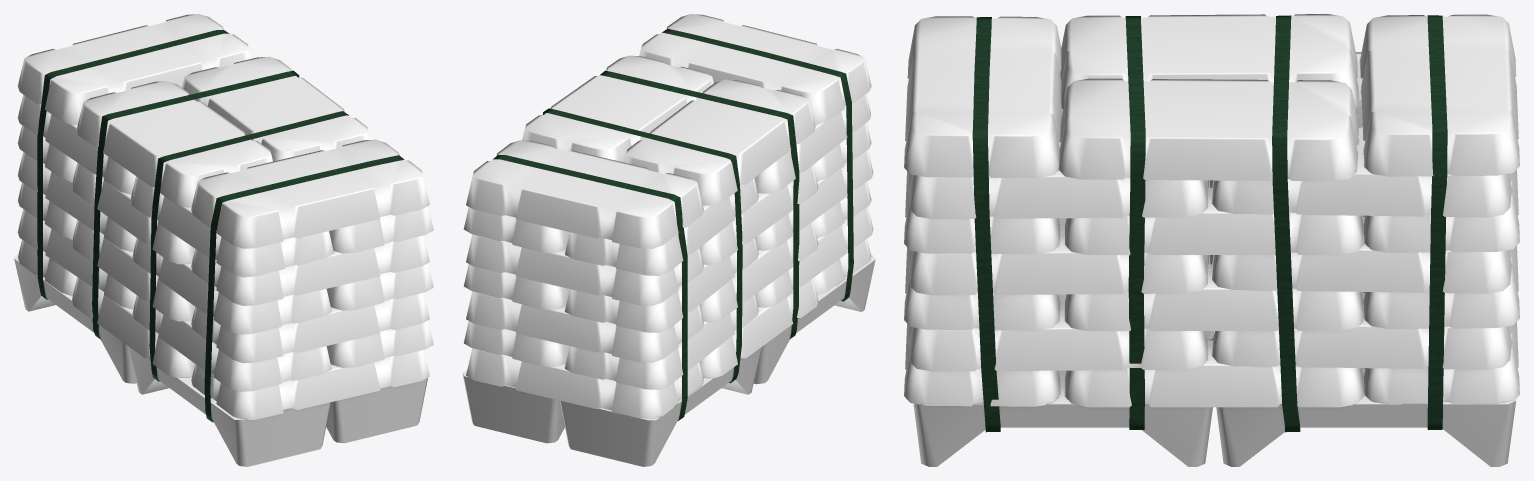
File: zincPallet.fbx
3 renders of one model, left to right at view 1: azimuth 30°, elevation 25°; view 2: azimuth 150°, elevation 25°; view 3: azimuth 270°, elevation 25°, orthographic. The views are drawn at different scales.
Visible parts, largest first — view 1: zincPallet; view 2: zincPallet; view 3: zincPallet.
Boxes of the visible parts, left/top/right/bottom form: zincPallet: left=14, top=14, right=433, bottom=466; zincPallet: left=462, top=14, right=875, bottom=466; zincPallet: left=904, top=14, right=1519, bottom=466.
Bounding box in the file's own units: 0.6436 × 0.7524 × 1.25.
1 material, 1 textured.
